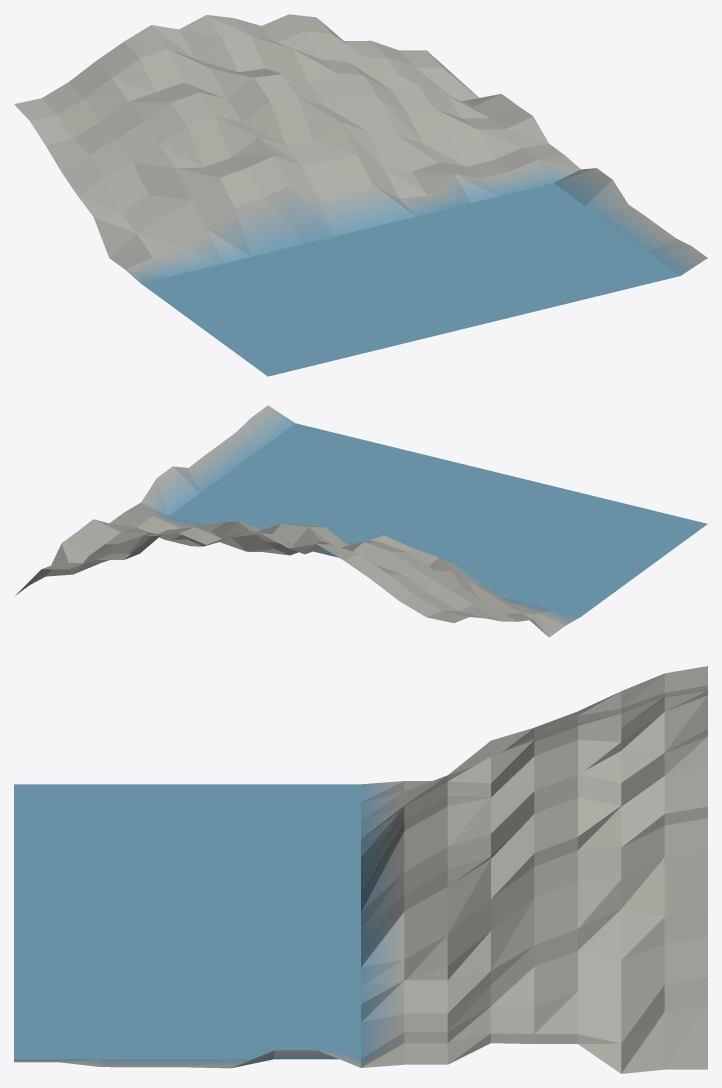
3 renders of one model, top to bottom at view 1: azimuth 30°, elevation 25°; view 2: azimuth 150°, elevation 25°; view 3: azimuth 270°, elevation 25°, orthographic. The views are drawn at different scales.
Bounding box in the file's own units: 32 × 9.19 × 32.
